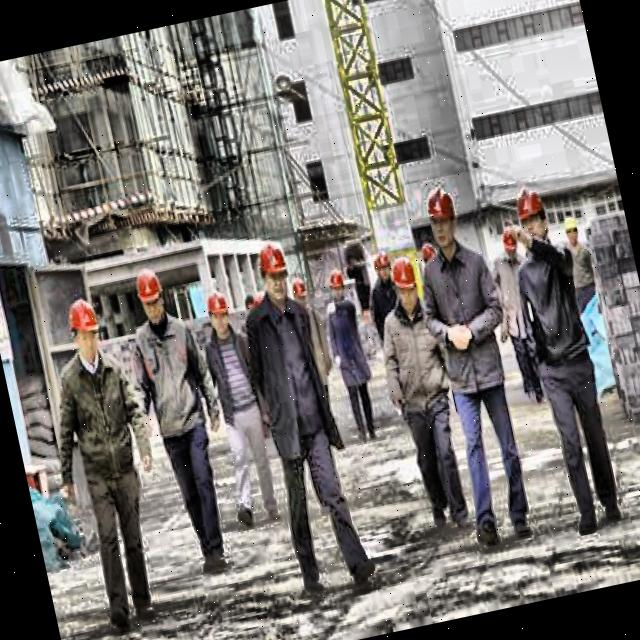helmet: (420, 185, 468, 262), (508, 183, 557, 257), (60, 296, 106, 370), (252, 240, 297, 312), (128, 263, 172, 330), (387, 252, 424, 314), (202, 286, 236, 341), (494, 220, 524, 270), (287, 271, 314, 314), (322, 263, 348, 305), (371, 249, 395, 286), (557, 214, 583, 248)
